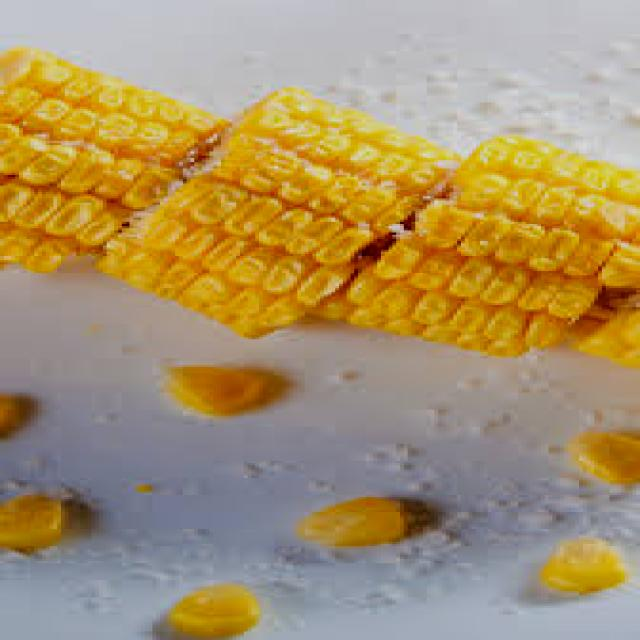bell_pepper: (94, 80, 466, 350), (293, 130, 640, 359), (0, 25, 223, 298), (274, 477, 437, 559), (150, 356, 305, 424), (516, 524, 640, 608), (155, 574, 288, 640), (0, 477, 91, 567), (556, 410, 640, 495), (0, 389, 68, 433)
